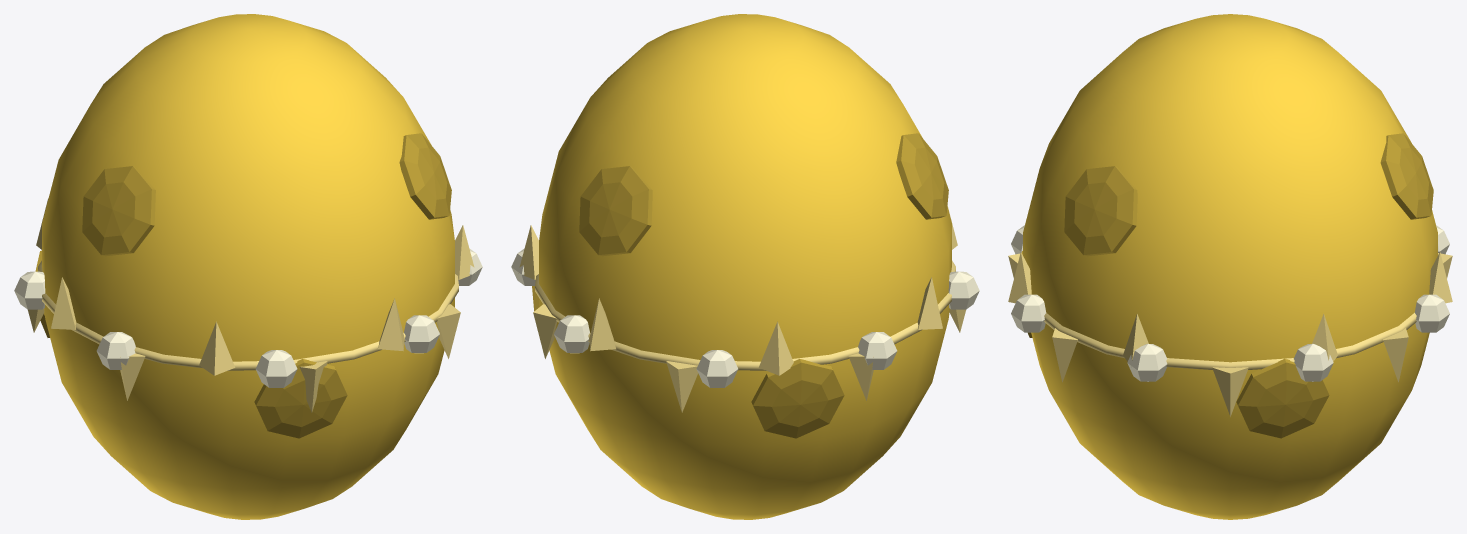
The model's file is Ovo_LegendaryEgg.fbx.
The picture shows the model from 3 angles, left to right: view 1: azimuth 30°, elevation 25°; view 2: azimuth 150°, elevation 25°; view 3: azimuth 270°, elevation 25°; orthographic projection.
Visible parts, largest first — view 1: Casca_LegendaryEgg; view 2: Casca_LegendaryEgg; view 3: Casca_LegendaryEgg.
Boxes of the visible parts, x1=… form: Casca_LegendaryEgg: x1=14, y1=14, x2=482, y2=519; Casca_LegendaryEgg: x1=511, y1=14, x2=979, y2=519; Casca_LegendaryEgg: x1=1008, y1=14, x2=1452, y2=519.
Size of the model in its own units: 1.74 by 2 by 1.7.
1 material, 1 textured.
